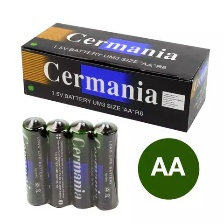battery: (66, 118, 98, 211), (90, 119, 121, 213), (44, 117, 75, 208), (20, 114, 49, 207)
book: (15, 18, 214, 136)
